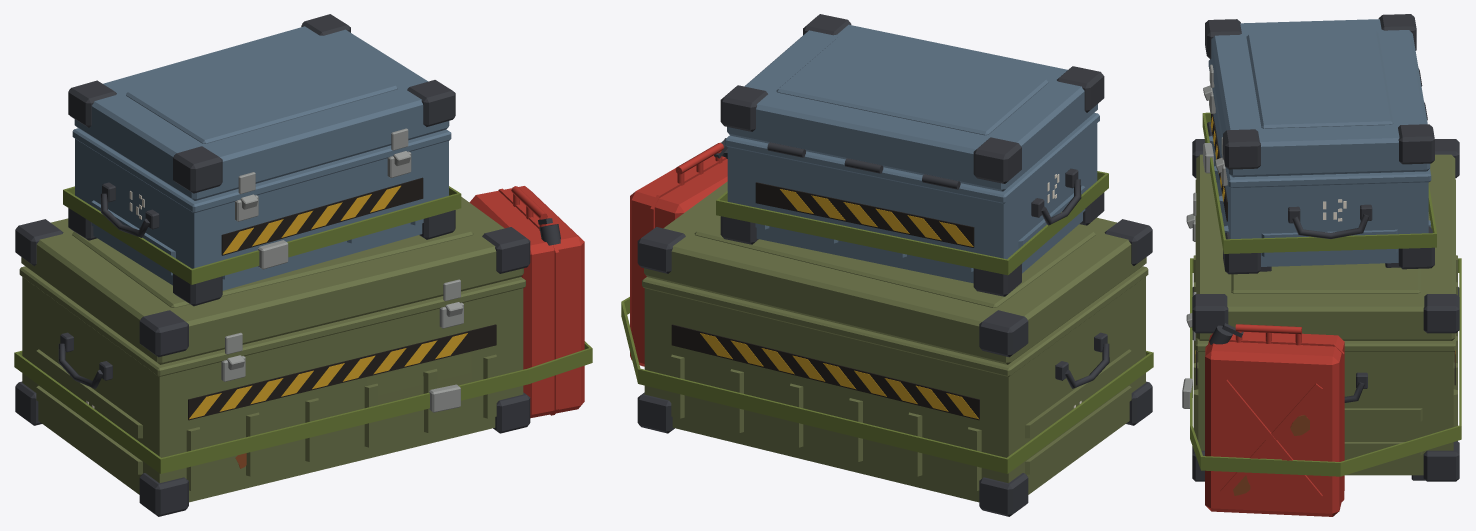
The model's file is deco_crate_metal_stack.fbx.
3 views of the same model, side by side, from view 1: azimuth 30°, elevation 25°; view 2: azimuth 150°, elevation 25°; view 3: azimuth 270°, elevation 25° (orthographic). The views are drawn at different scales.
Visible parts, largest first — view 1: Crate_MetalStack_CaseBottom, Crate_MetalStack_CaseTop_Lid, Crate_MetalStack_CaseTop, Crate_MetalStack_Straps, Crate_MetalStack_Jerrycan; view 2: Crate_MetalStack_CaseBottom, Crate_MetalStack_CaseTop_Lid, Crate_MetalStack_CaseTop, Crate_MetalStack_Straps, Crate_MetalStack_Jerrycan; view 3: Crate_MetalStack_CaseBottom, Crate_MetalStack_CaseTop_Lid, Crate_MetalStack_Jerrycan, Crate_MetalStack_CaseTop, Crate_MetalStack_Straps, Crate_MetalStack_Wear.
Part boxes in pixels (<box>): Crate_MetalStack_CaseBottom: <box>15,197,530,516</box>; Crate_MetalStack_CaseTop_Lid: <box>68,14,455,200</box>; Crate_MetalStack_CaseTop: <box>68,128,455,306</box>; Crate_MetalStack_Straps: <box>14,186,592,473</box>; Crate_MetalStack_Jerrycan: <box>469,186,584,418</box>; Crate_MetalStack_CaseBottom: <box>637,181,1152,516</box>; Crate_MetalStack_CaseTop_Lid: <box>720,14,1104,191</box>; Crate_MetalStack_CaseTop: <box>720,113,1104,296</box>; Crate_MetalStack_Straps: <box>621,171,1153,473</box>; Crate_MetalStack_Jerrycan: <box>630,138,727,366</box>; Crate_MetalStack_CaseBottom: <box>1186,139,1459,481</box>; Crate_MetalStack_CaseTop_Lid: <box>1205,14,1434,177</box>; Crate_MetalStack_Jerrycan: <box>1205,323,1344,516</box>; Crate_MetalStack_CaseTop: <box>1203,60,1434,274</box>; Crate_MetalStack_Straps: <box>1182,112,1461,476</box>; Crate_MetalStack_Wear: <box>1233,415,1309,495</box>.
Bounding box in the file's own units: 166 × 118 × 93.01.
